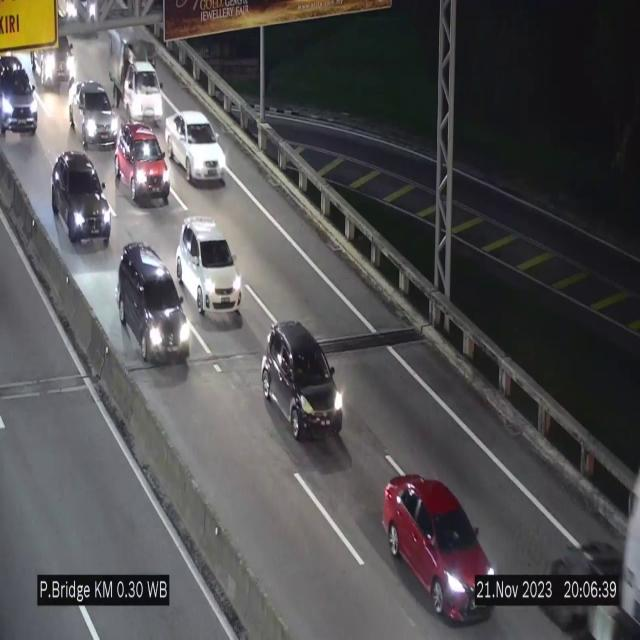Car: (382, 474, 501, 622), (259, 312, 348, 447), (117, 238, 191, 382), (44, 146, 118, 246), (177, 217, 243, 321), (166, 110, 227, 184), (116, 121, 169, 205), (0, 48, 41, 148), (28, 25, 81, 98), (68, 81, 118, 152)
Truck: (532, 432, 640, 640), (110, 27, 165, 129)
